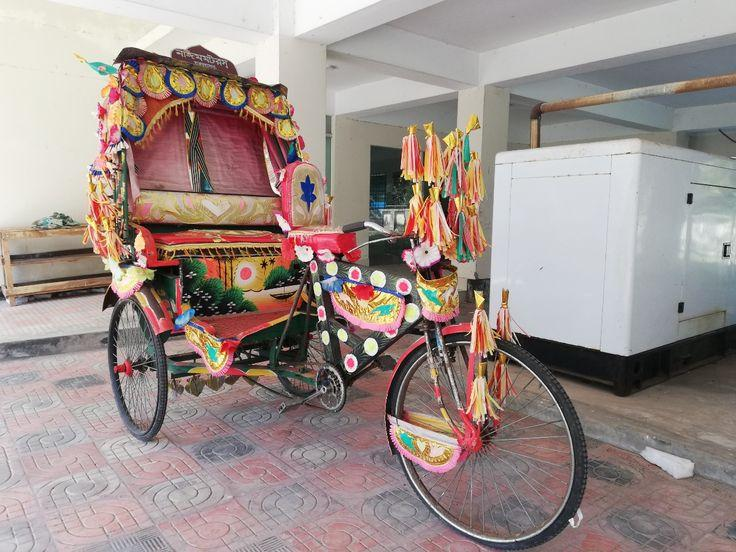Rickshaw: (87, 48, 585, 547)
